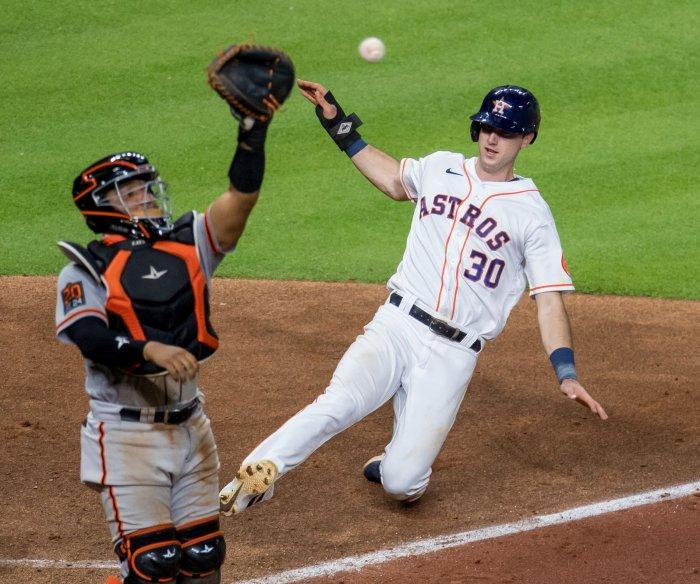baseball: (358, 35, 386, 64)
